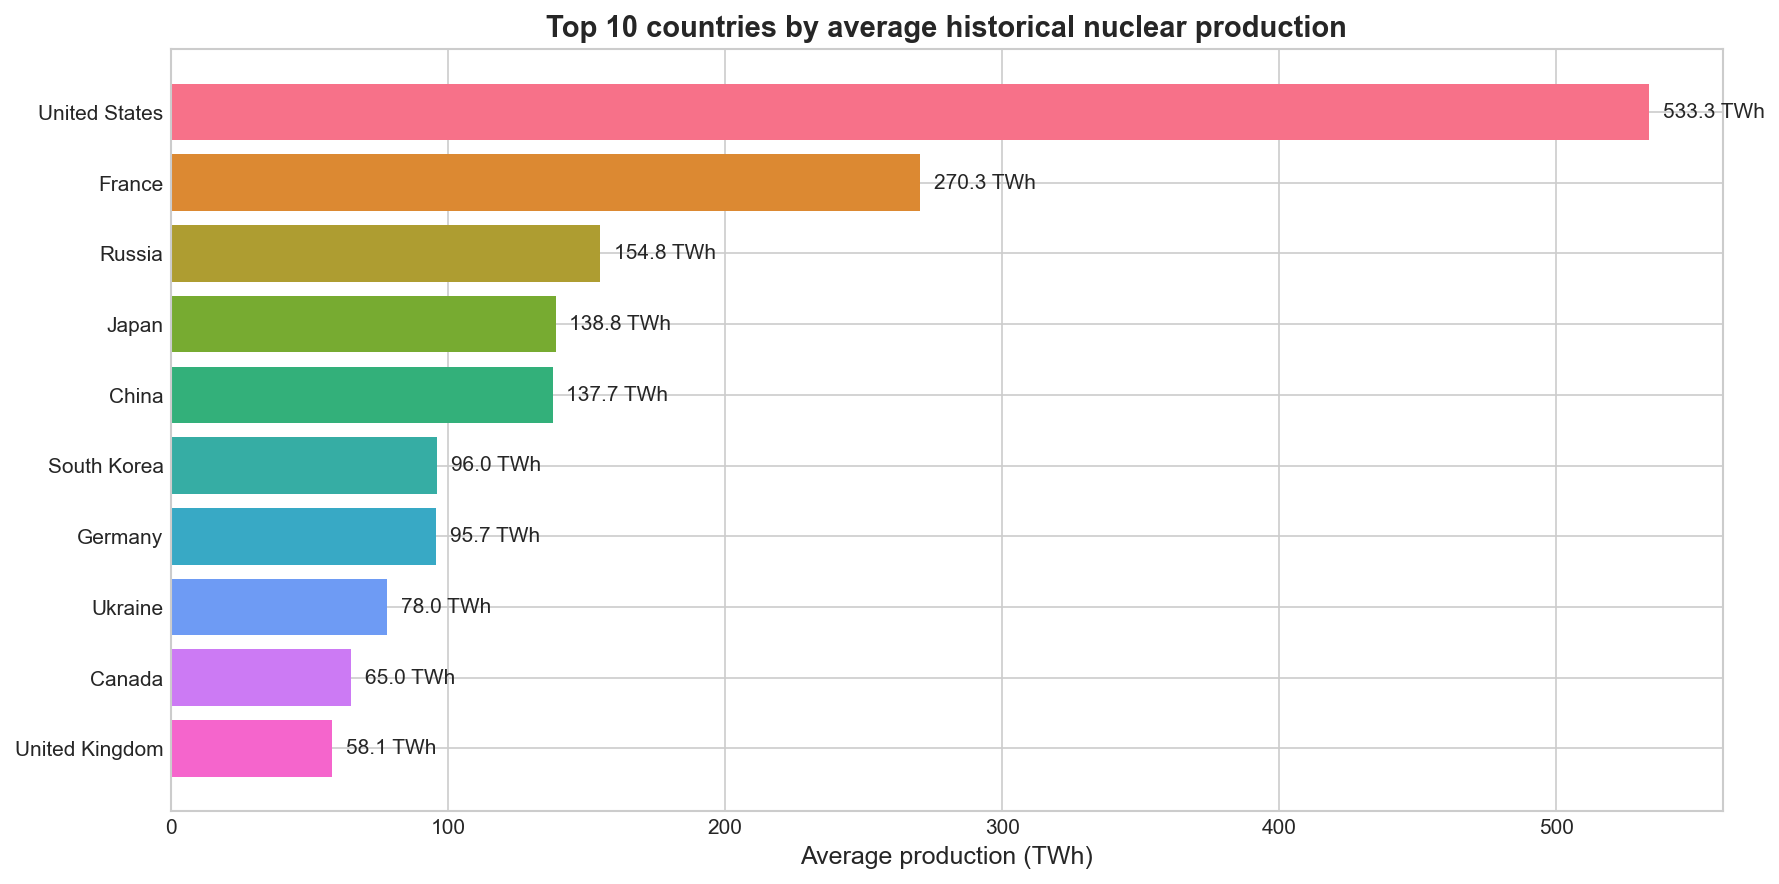

The dashboard page shown, as its layout file describes it:
{"tool":"powerbi","page":{"name":"Pagina 1","canvas":[1280,720],"ordinal":0},"visuals":[{"type":"barChart","fields":{"Category":["nuclear_generation.country"],"Y":["Avg(nuclear_generation.nuclear_twh)"]},"box":[9.7,0,646.8,500.9],"z":0}]}

Visuals, with their boxes on the page's 1280x720 design canvas (x1, y1, x2, y2). These are canvas units, not pixel positions in the 1779x884 screenshot, which may show the page scaled, cropped or inside an application window:
barChart - nuclear_generation.country x Avg(nuclear_generation.nuclear_twh): detection(10, 0, 656, 501)
